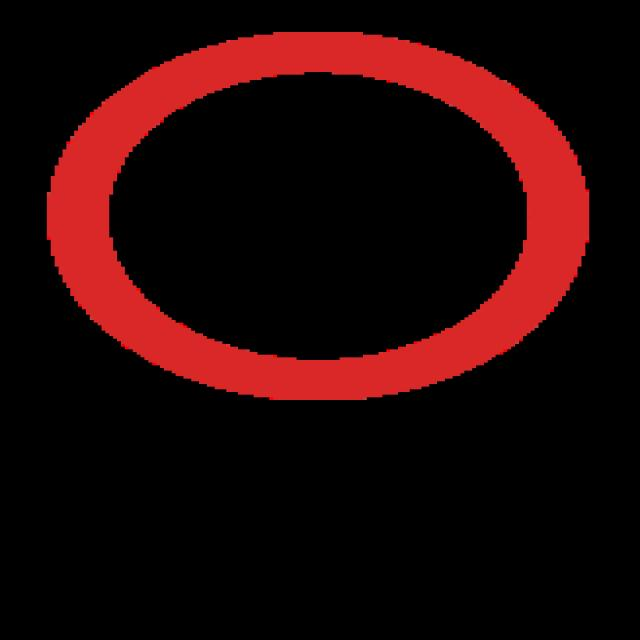Speed Limit -50-: (138, 117, 502, 260)
